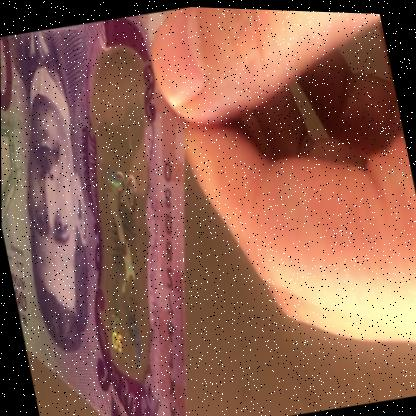50F: (49, 54, 177, 373)
